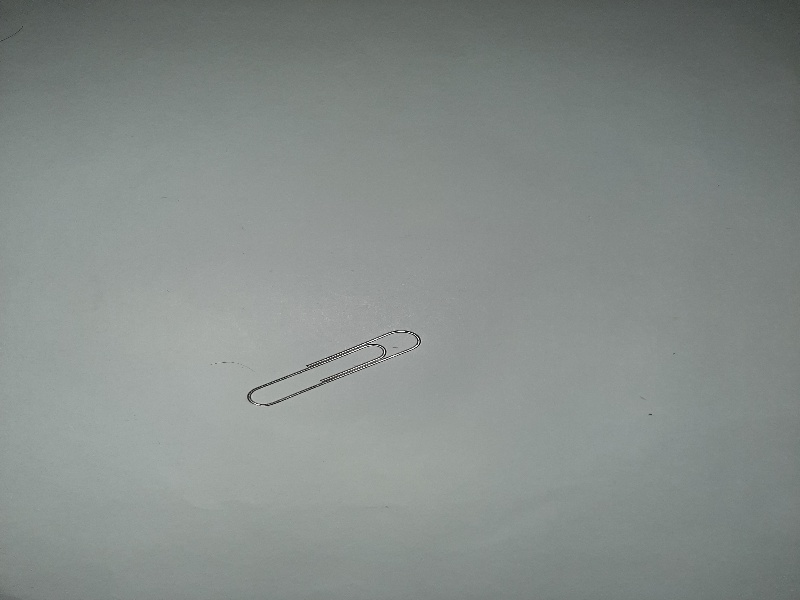Big Jumpclip: (243, 322, 428, 408)
